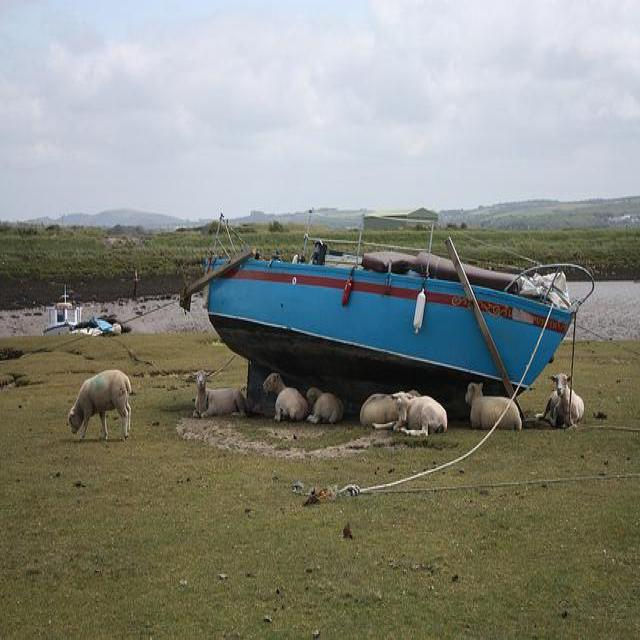Sheep: (68, 370, 132, 441), (191, 370, 250, 421), (465, 382, 522, 432), (536, 374, 585, 426)
